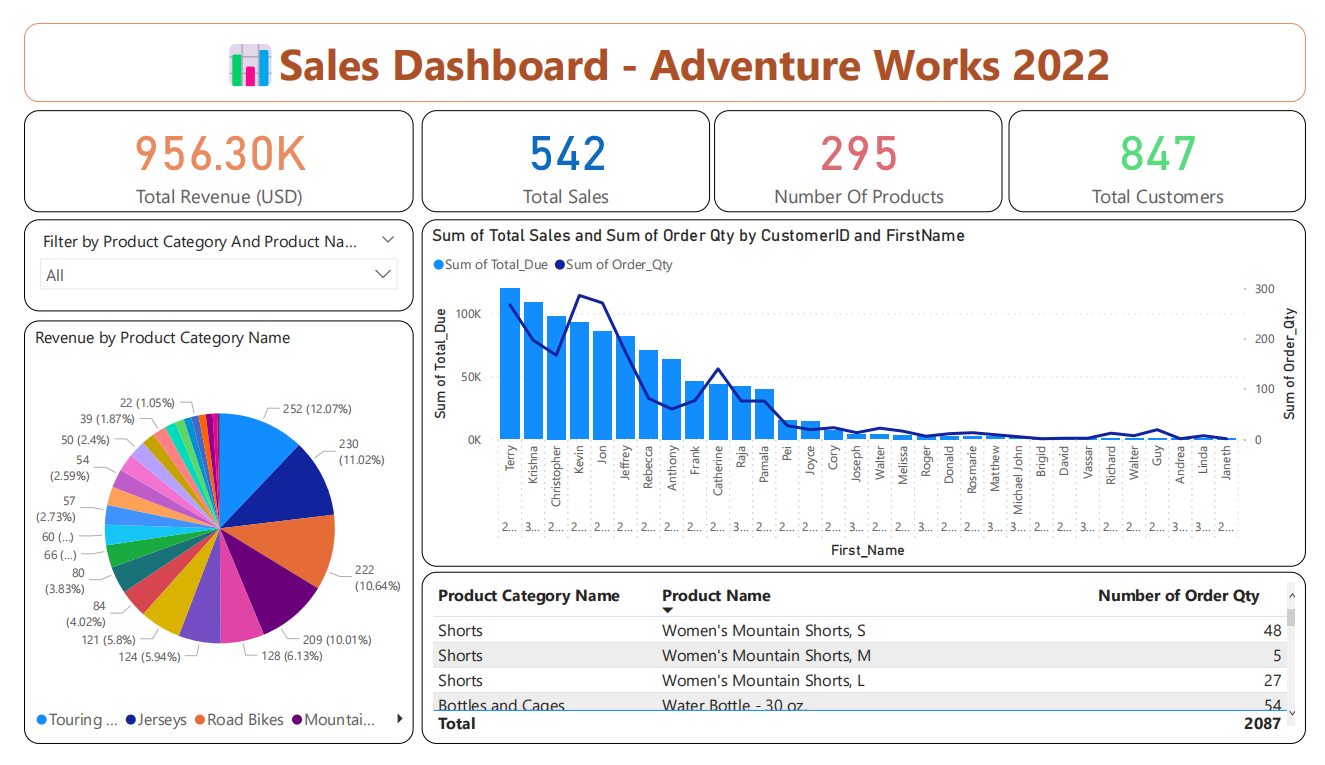

The page's visual inventory and layout, read from the dashboard file:
{"tool":"powerbi","page":{"name":"SalesDashboard","canvas":[1280,720],"ordinal":0},"visuals":[{"type":"card","fields":{"Values":["Sum(SalesOrderHeader.Total_Due)"]},"box":[0,86.8,388.7,102.7],"z":0},{"type":"card","fields":{"Values":["CountNonNull(SalesOrderDetail.Sales_Order_ID)"]},"box":[397.3,86.8,287.3,102.7],"z":1000},{"type":"card","fields":{"Values":["CountNonNull(Customer.Customer_ID)"]},"box":[982.8,86.8,297,102.7],"z":2000},{"type":"card","fields":{"Values":["CountNonNull(Product.Product_ID)"]},"box":[689.4,86.8,287.3,102.7],"z":3000},{"type":"textbox","box":[0,0,1279.9,79.5],"z":4000},{"type":"slicer","fields":{"Values":["ProductCategory.Name","Product.Name"]},"box":[0,195.6,388.7,92.9],"z":5000},{"type":"pieChart","fields":{"Y":["Sum(SalesOrderDetail.Order_Qty)"],"Category":["ProductCategory.Name"]},"box":[0,297,388.7,423],"z":6000},{"type":"tableEx","title":"Product Name By Sales","fields":{"Values":["ProductCategory.Name","Product.Name","Sum(SalesOrderDetail.Order_Qty)"]},"box":[397.3,547.6,882.6,172.4],"z":7000},{"type":"lineStackedColumnComboChart","title":"Sum of Total Sales and Sum of Order Qty by CustomerID and FirstName","fields":{"Category":["SalesOrderHeader.Customer_ID","Customer.First_Name"],"Y":["Sum(SalesOrderHeader.Total_Due)"],"Y2":["Sum(SalesOrderDetail.Order_Qty)"]},"box":[397.3,195.6,882.6,347.2],"z":8000}]}

Visuals, with their boxes in screenshot pixels (x1, y1, x2, y2), scaled from the page's 1280x720 canvas onto the 1325x765 screenshot:
card - Sum(SalesOrderHeader.Total_Due): {"x1": 0, "y1": 92, "x2": 402, "y2": 201}
card - CountNonNull(SalesOrderDetail.Sales_Order_ID): {"x1": 411, "y1": 92, "x2": 709, "y2": 201}
card - CountNonNull(Customer.Customer_ID): {"x1": 1017, "y1": 92, "x2": 1324, "y2": 201}
card - CountNonNull(Product.Product_ID): {"x1": 714, "y1": 92, "x2": 1011, "y2": 201}
textbox: {"x1": 0, "y1": 0, "x2": 1324, "y2": 84}
slicer - ProductCategory.Name x Product.Name: {"x1": 0, "y1": 208, "x2": 402, "y2": 307}
pieChart - Sum(SalesOrderDetail.Order_Qty) x ProductCategory.Name: {"x1": 0, "y1": 316, "x2": 402, "y2": 764}
"Product Name By Sales" tableEx: {"x1": 411, "y1": 582, "x2": 1324, "y2": 764}
"Sum of Total Sales and Sum of Order Qty by CustomerID and FirstName" lineStackedColumnComboChart: {"x1": 411, "y1": 208, "x2": 1324, "y2": 577}
